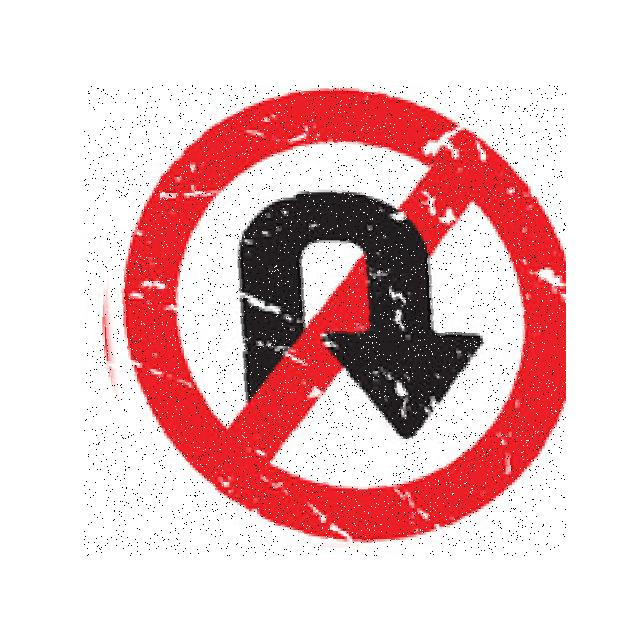no u turn: (84, 85, 566, 556)
